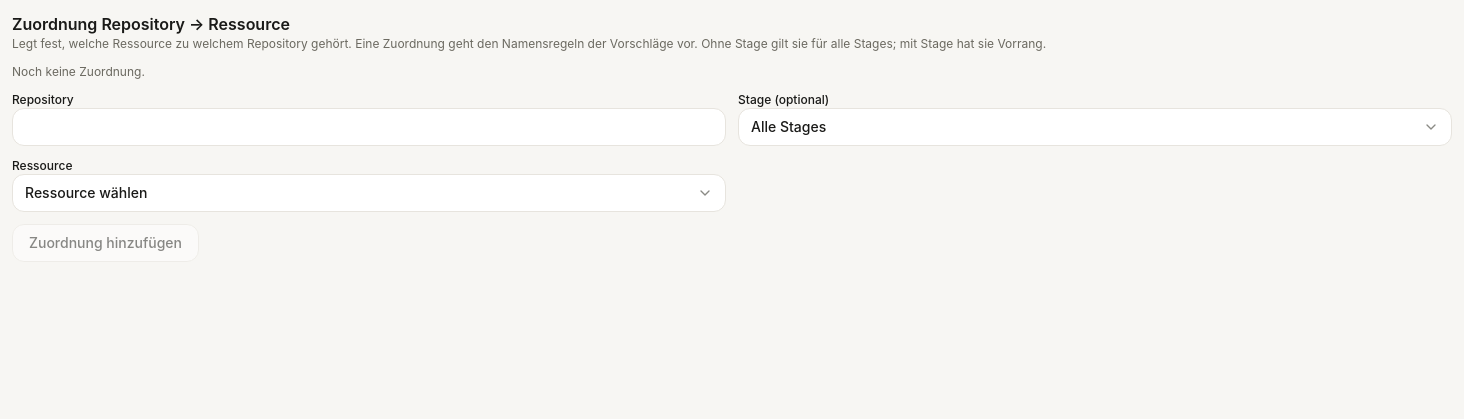
Scenario: ResourceMapPanel › shows the empty hint and keeps the add button disabled until repository and resource are set
Expected: the text "Noch keine Zuordnung." is shown, [12,64,145,79]
Expected: the button "Zuordnung hinzufügen" is disabled, [12,224,199,262]
Type "web" into the dropdown labelled "Repository".
click(369, 127); type("web")  # box [12,108,726,146]
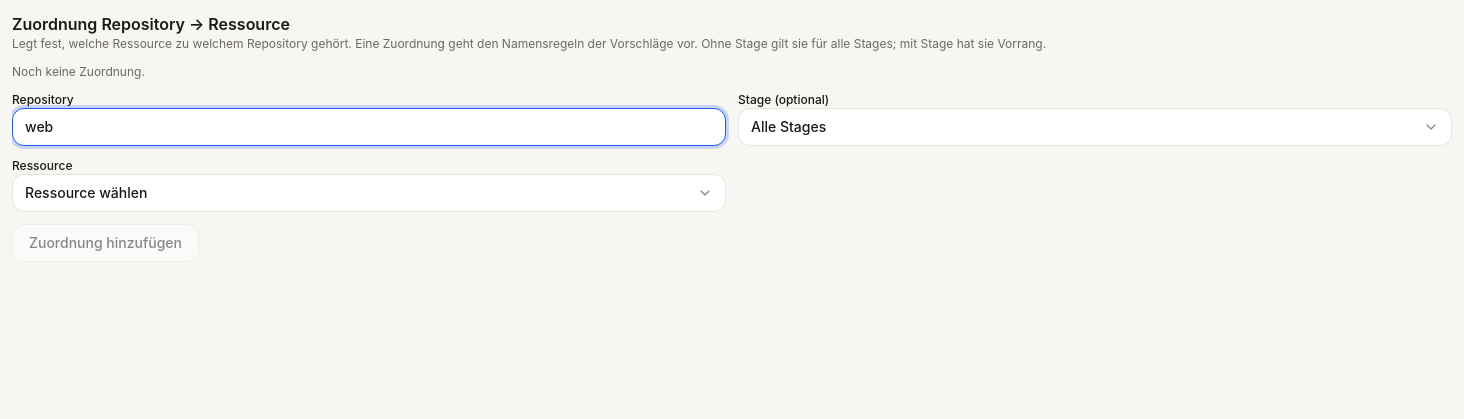
Expected: the button "Zuordnung hinzufügen" is disabled, [12,224,199,262]
Click the dropdown labelled "Ressource".
click(86, 192)  # box [12,174,726,212]
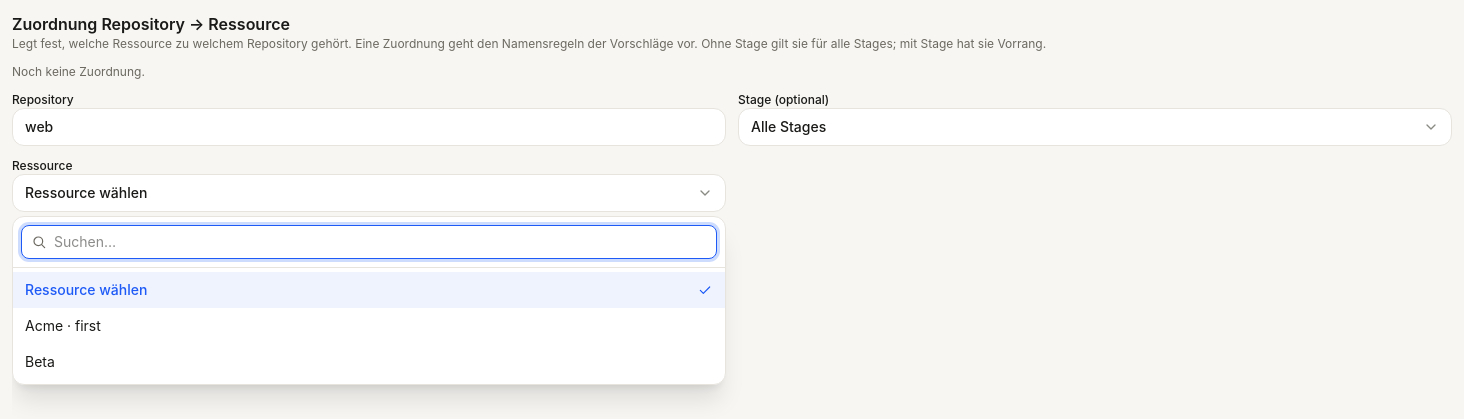
Click the option "Acme · first".
click(63, 326)  # box [25,317,101,334]
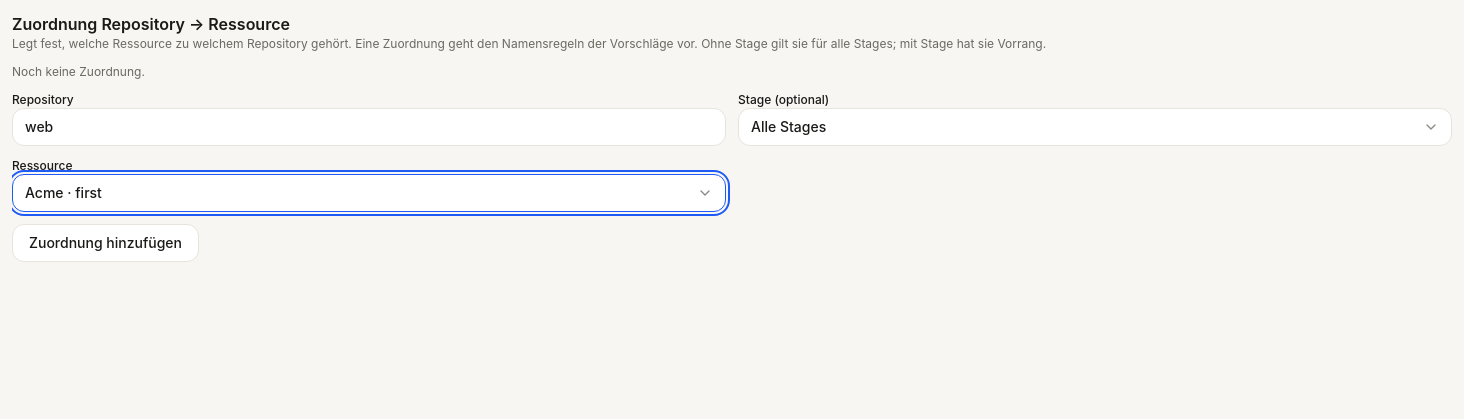
Now the button "Zuordnung hinzufügen" is enabled, box [12,224,199,262]
